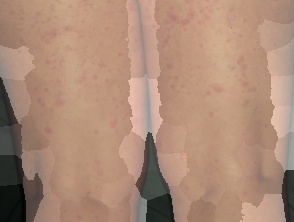SJS-TEN: (1, 0, 139, 151), (150, 0, 269, 115)
